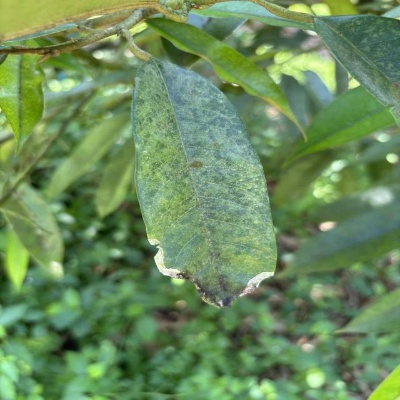Leaf_Blight: (129, 57, 279, 311)
